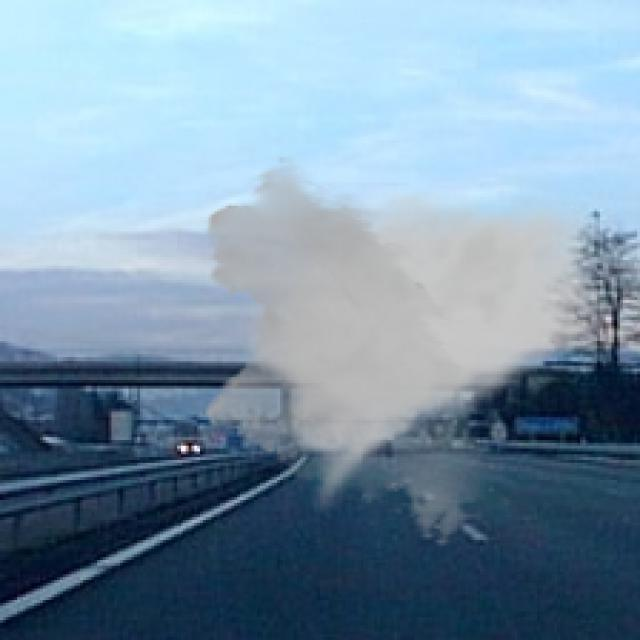smoke: (194, 154, 617, 549)
